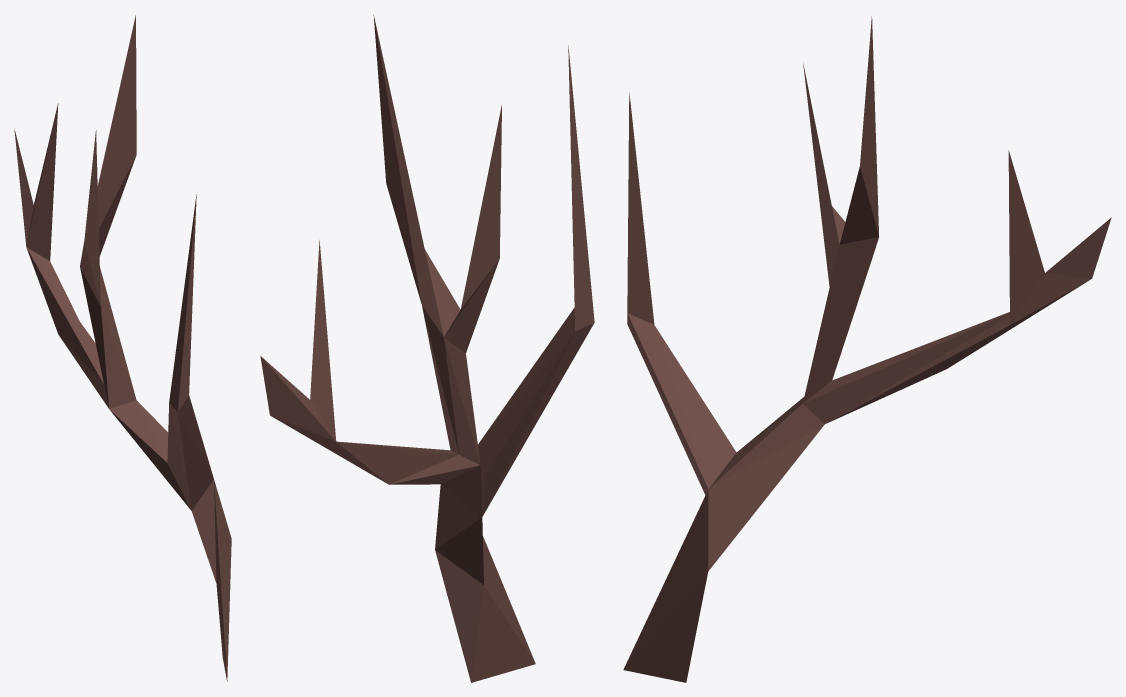
File: Willow_Dead_1.lod3.glb
3 views of the same model, side by side, from view 1: azimuth 30°, elevation 25°; view 2: azimuth 150°, elevation 25°; view 3: azimuth 270°, elevation 25° (orthographic). The views are drawn at different scales.
Parts seen in each view (by area): view 1: Willow_Dead_1; view 2: Willow_Dead_1; view 3: Willow_Dead_1.
Part boxes in pixels (x1=…): Willow_Dead_1: x1=14, y1=15, x2=231, y2=681; Willow_Dead_1: x1=260, y1=15, x2=594, y2=682; Willow_Dead_1: x1=623, y1=16, x2=1111, y2=682.
Size of the model in its own units: 0.4791 by 2.7 by 1.8.
